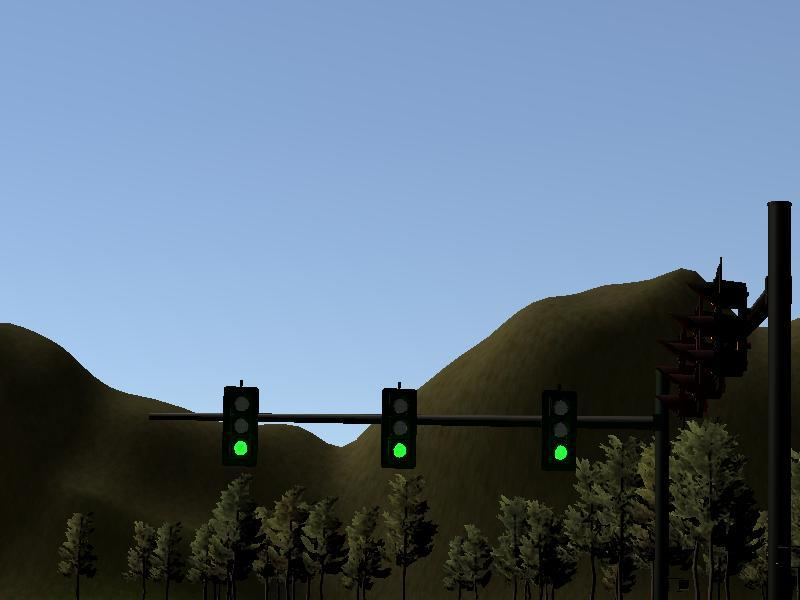Green: (221, 386, 258, 470), (540, 388, 577, 472), (381, 388, 417, 470)
